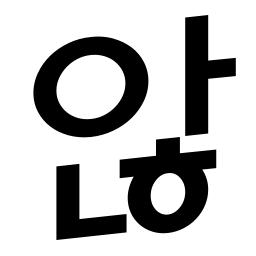Gaji: (170, 46, 224, 97)
